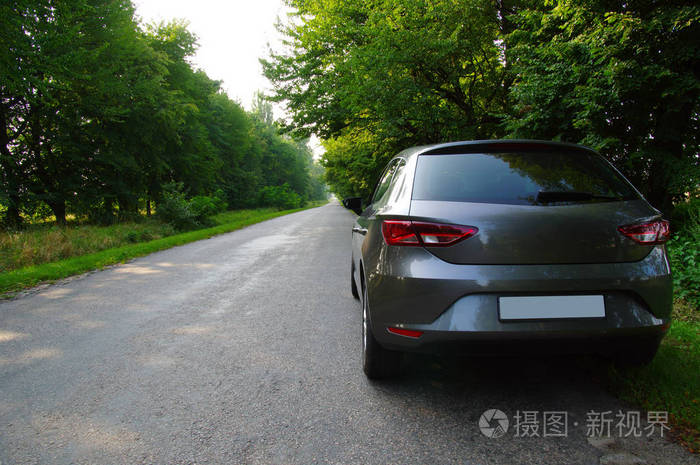car: (352, 138, 678, 392)
